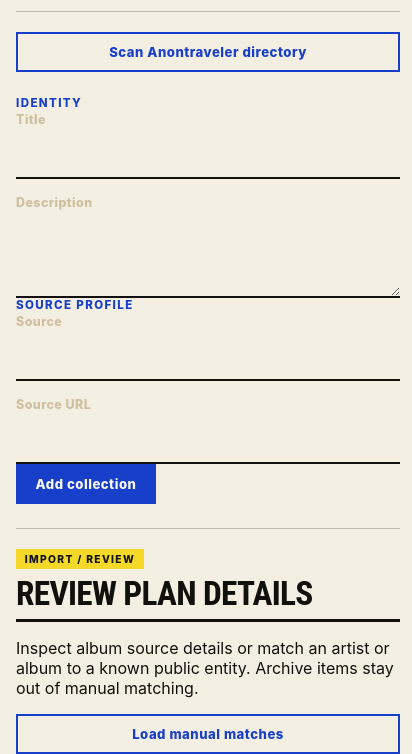
Test case: ArchivePage › renders album source metadata in the admin review plan details
The image size is (412, 754).
(page scrolled)
What coordinates should you click on to do the following:
click the button "Load manual matches"
I would click on:
 (208, 734)
Its box is [16,714,400,753].
(page scrolled)
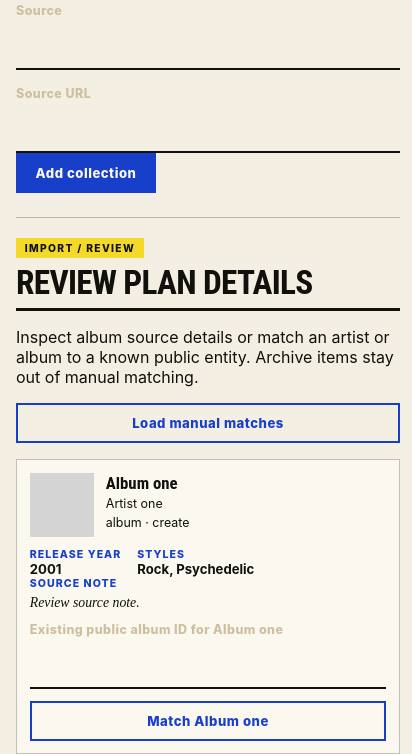
Check: the text "Review source note." is shown, box [30,595,140,610]
Check: the text "2001" is shown, box [30,561,61,577]
Check: the text "Rock, Psychedelic" is shown, box [137,561,254,577]
